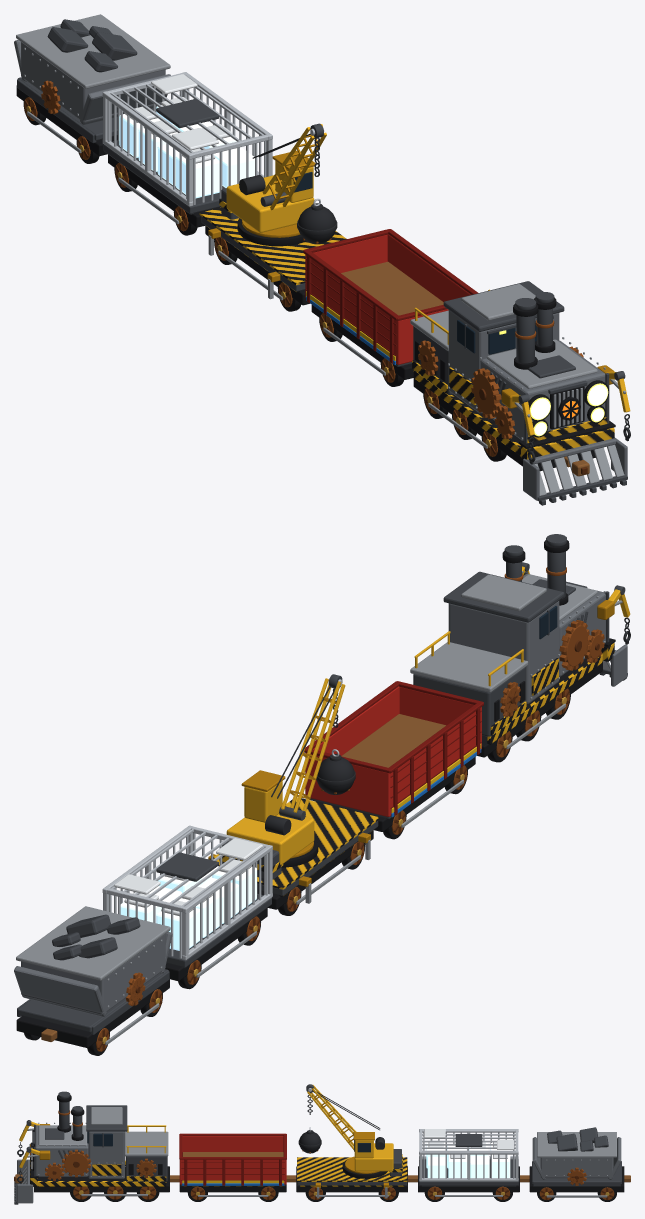
The model's file is hauler.glb.
The picture shows the model from 3 angles, top to bottom: view 1: azimuth 30°, elevation 25°; view 2: azimuth 150°, elevation 25°; view 3: azimuth 270°, elevation 25°; orthographic projection. The views are drawn at different scales.
Parts seen in each view (by area): view 1: HaulerLoco, HaulerCage, HaulerHopper, HaulerOre, HaulerCrane, CraneSlew, WreckingBall; view 2: HaulerLoco, HaulerOre, HaulerHopper, HaulerCage, CraneSlew, HaulerCrane, WreckingBall; view 3: HaulerLoco, HaulerHopper, HaulerCage, HaulerOre, HaulerCrane, CraneSlew, WreckingBall.
Part boxes in pixels (box(x1,y1,x2,y2)): HaulerLoco: box(410, 281, 630, 505); HaulerCage: box(102, 72, 272, 235); HaulerHopper: box(303, 229, 478, 386); HaulerOre: box(14, 14, 170, 163); HaulerCrane: box(199, 207, 346, 311); CraneSlew: box(219, 123, 326, 232); WreckingBall: box(297, 198, 337, 244); HaulerLoco: box(410, 534, 630, 762); HaulerOre: box(14, 906, 172, 1055); HaulerHopper: box(304, 681, 483, 839); HaulerCage: box(102, 825, 272, 989); CraneSlew: box(219, 674, 345, 879); HaulerCrane: box(208, 797, 379, 915); WreckingBall: box(316, 749, 355, 794); HaulerLoco: box(14, 1091, 175, 1204); HaulerHopper: box(174, 1133, 292, 1201); HaulerCage: box(412, 1129, 525, 1201); HaulerOre: box(523, 1127, 630, 1201); HaulerCrane: box(290, 1156, 413, 1201); CraneSlew: box(306, 1084, 402, 1176); WreckingBall: box(298, 1127, 321, 1153).
Size of the model in its own units: 2.86 by 4.78 by 25.39.
Materials: 24 (1 with a texture image).
